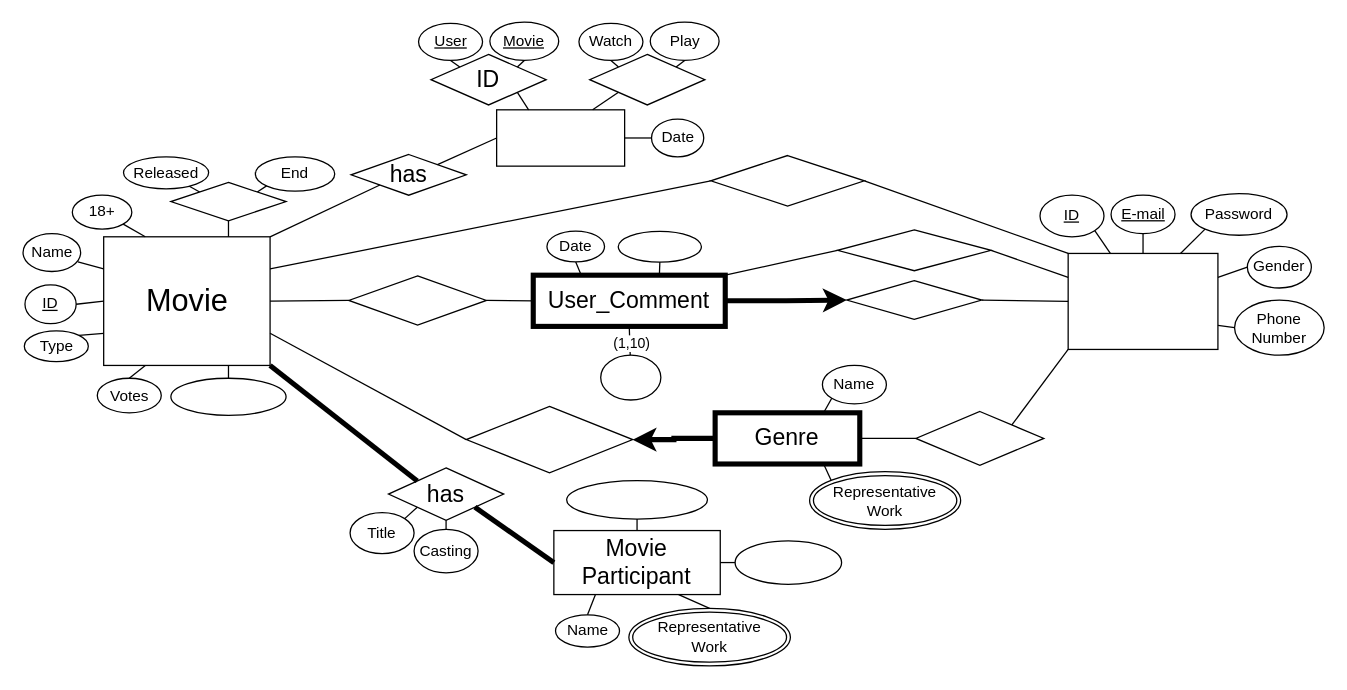
This 1347x690 diagram has some shape labels left out. Here are the shapes that lost their labels. From the top down, the centre of each, then its label:
pixel 646 79: Time
pixel 560 137: History
pixel 787 180: Watches
pixel 228 201: Year
pixel 659 246: Content
pixel 913 250: Monitors
pixel 417 300: relates to
pixel 913 299: Writes
pixel 1142 300: User (Customer)
pixel 228 396: Running-Time
pixel 630 377: Rating
pixel 549 439: belongs to
pixel 979 437: Prefers
pixel 636 499: Participant ID
pixel 788 562: Occupation
